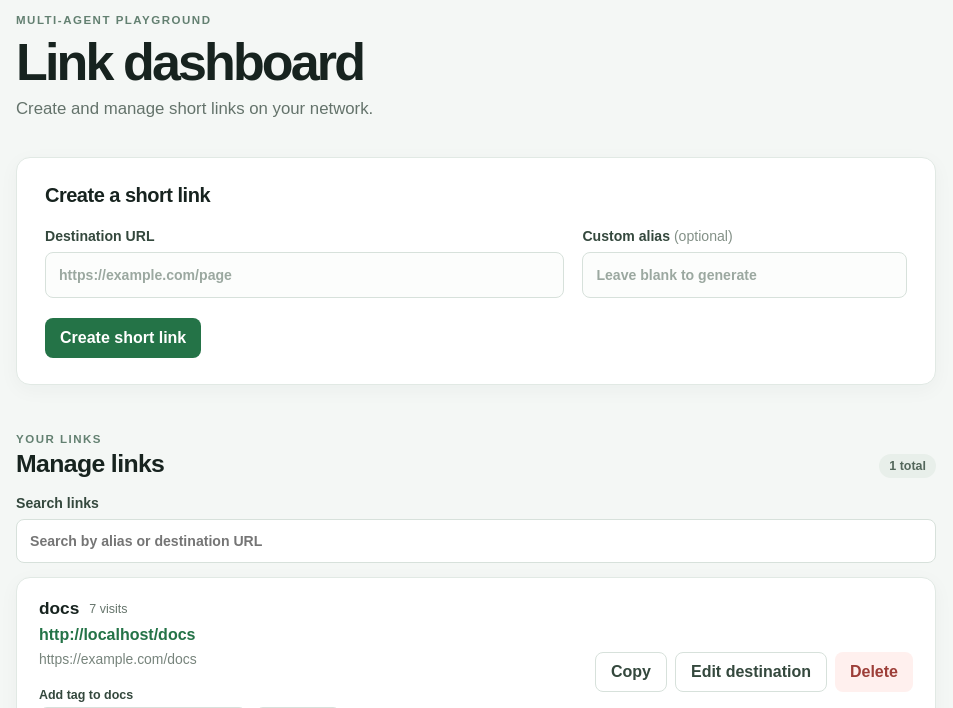
Test: link dashboard › keeps the active filter when creating a link and includes a matching result
The width and height of the screenshot is (953, 708).
Expected: the heading "docs" is shown, [39,598,79,619]
Type "new-docs" into the search field labelled "Search links" at [476, 541], box [16,519,936,563]
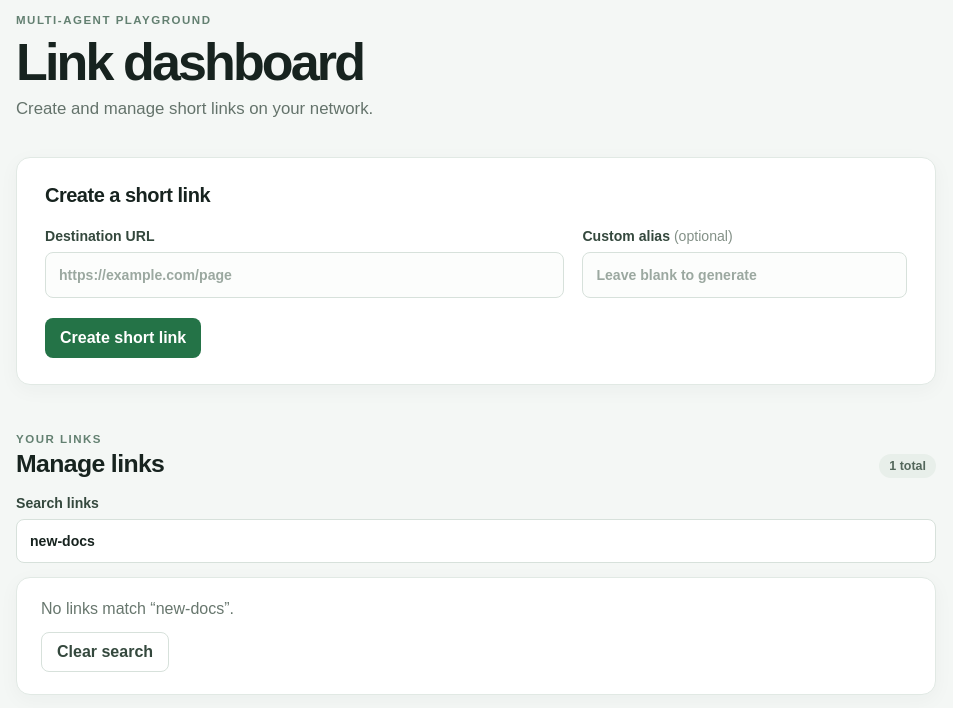
Expected: the text "No links match “new-docs”." is shown, [41,600,234,617]
Type "https://example.com/new" into the field labelled "Destination URL" at [305, 275], box [45,252,564,298]
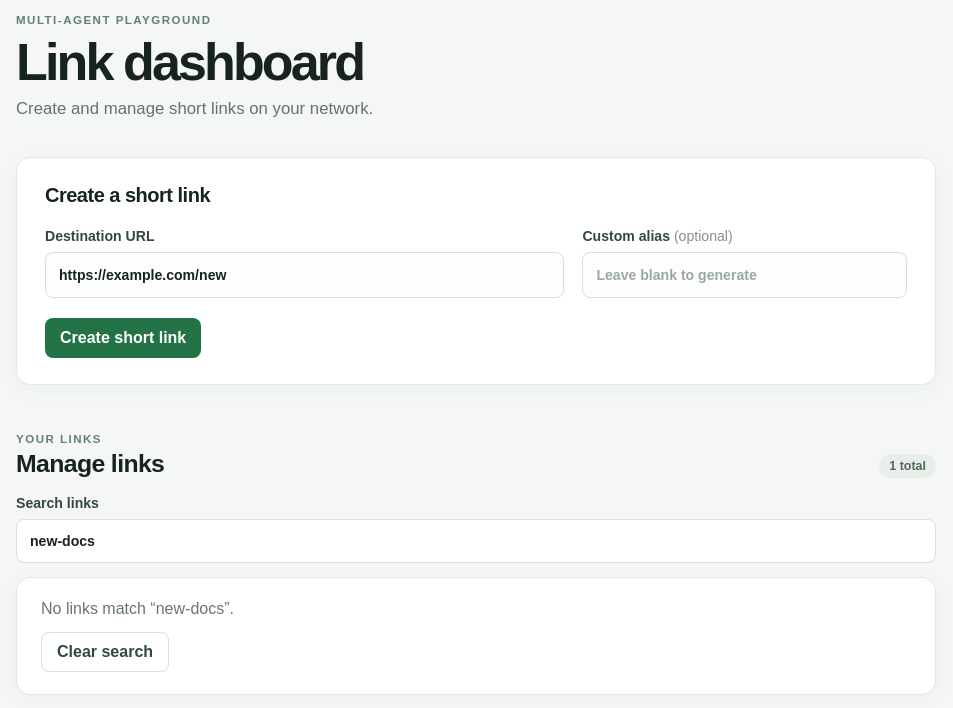
Type "new-docs" into the field labelled "Custom alias (optional)" at [745, 275], box [582,252,907,298]
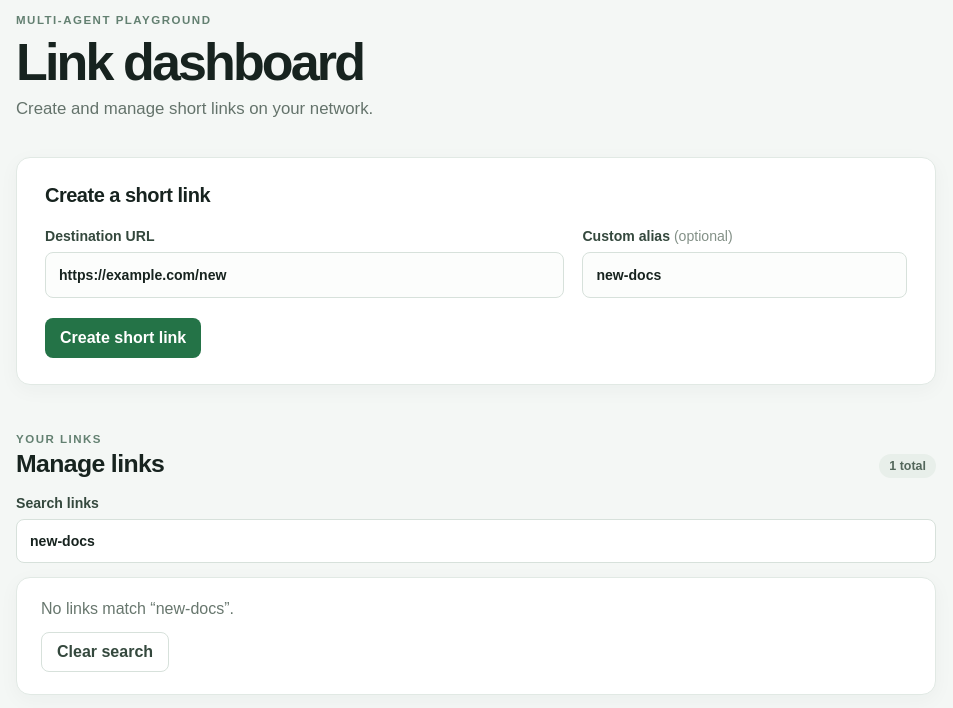
Click the button "Create short link" at [123, 338], box [45,318,201,358]
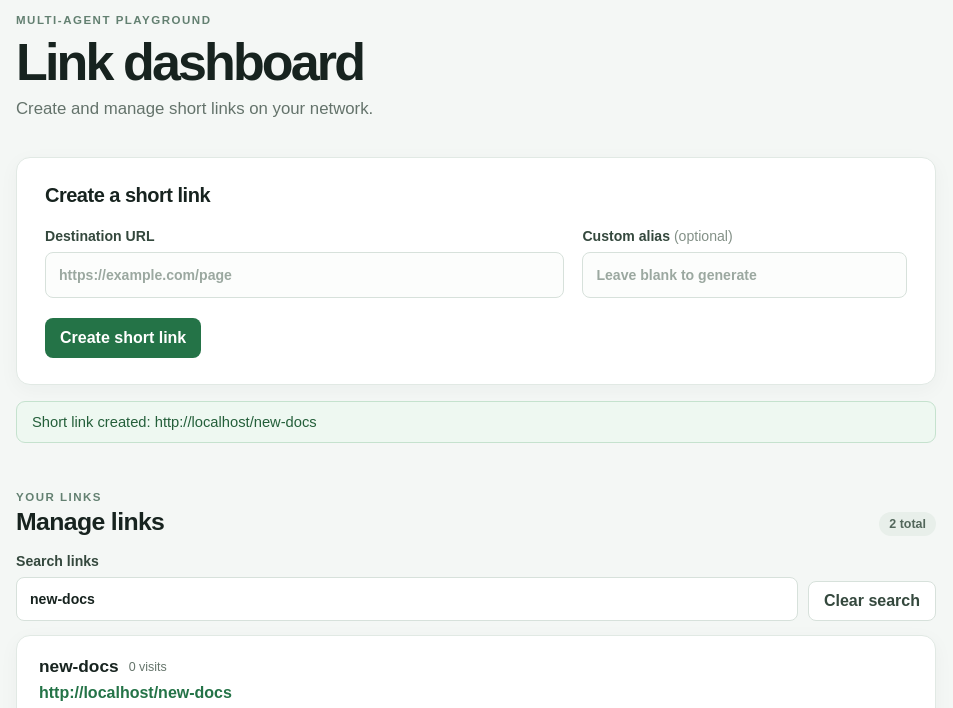
Expected: the heading "new-docs" is shown, [39,656,119,677]
